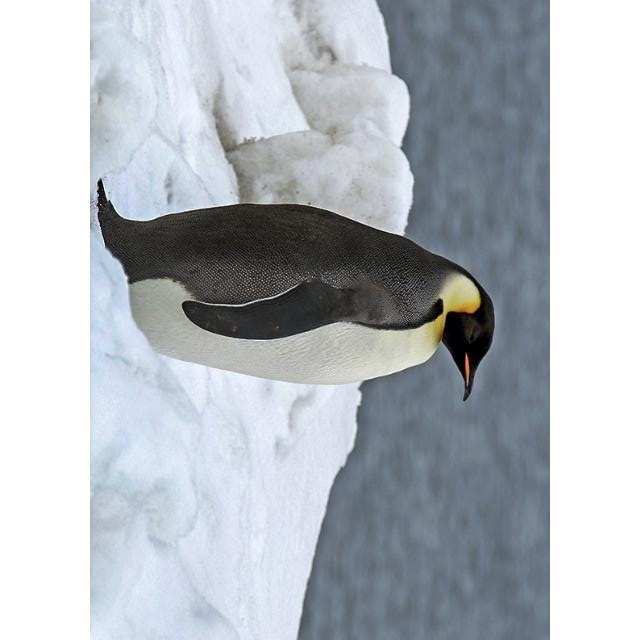penguin: (95, 181, 497, 403)
